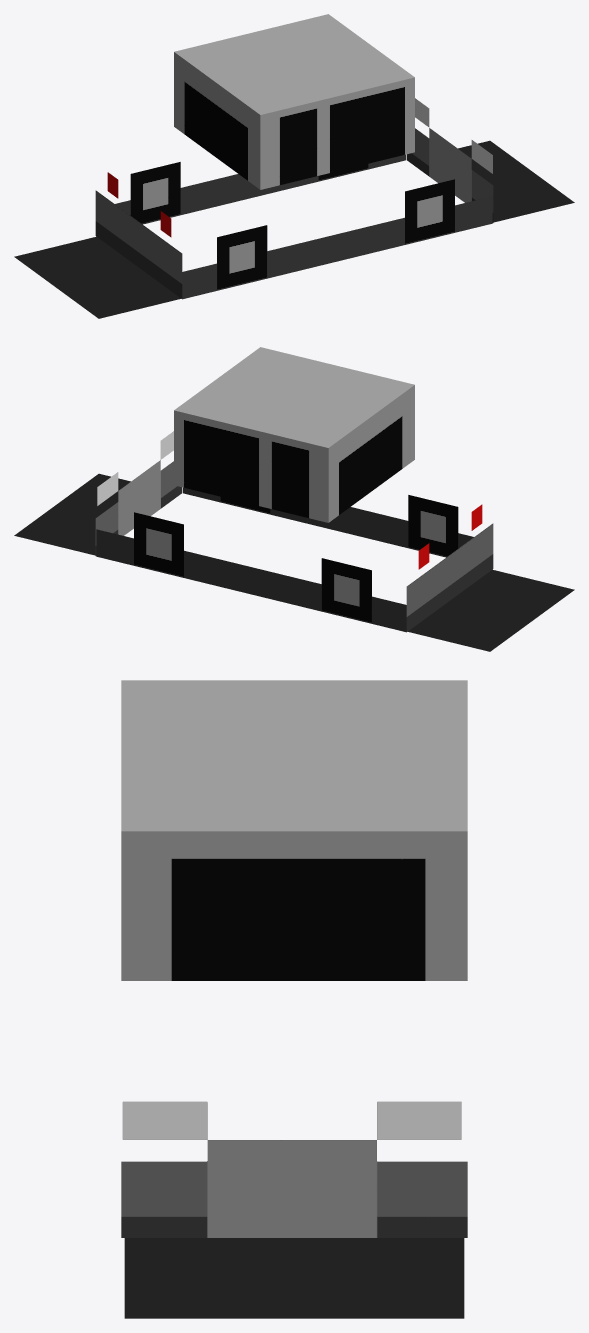
Rendered from Car_BasicTudor.fbx.
3 renders of one model, top to bottom at view 1: azimuth 30°, elevation 25°; view 2: azimuth 150°, elevation 25°; view 3: azimuth 270°, elevation 25°, orthographic. The views are drawn at different scales.
Parts seen in each view (by area): view 1: Cube, ShadowLeft, ShadowRight; view 2: Cube, ShadowLeft, ShadowRight; view 3: Cube, ShadowRight.
Boxes of the visible parts, x1,y1,x2,y2 form: Cube: (95,14,493,299); ShadowLeft: (14,236,180,318); ShadowRight: (458,140,574,222); Cube: (95,347,493,632); ShadowLeft: (408,569,574,651); ShadowRight: (14,473,130,555); Cube: (121,680,467,1237); ShadowRight: (124,1238,464,1318).
Bounding box in the file's own units: 700 × 307 × 232.
Materials: 2 (1 with a texture image).
